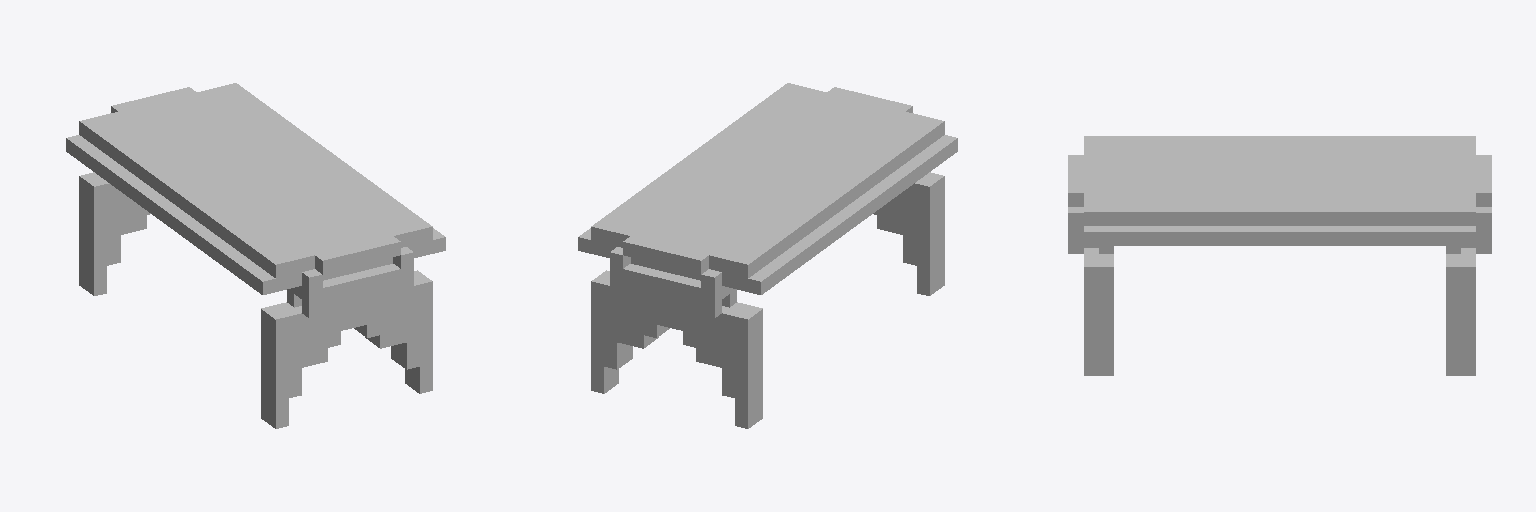
Rendered from table.obj.
3 renders of one model, left to right at view 1: azimuth 30°, elevation 25°; view 2: azimuth 150°, elevation 25°; view 3: azimuth 270°, elevation 25°, orthographic.
Bounding box in the file's own units: 14 × 12 × 28.